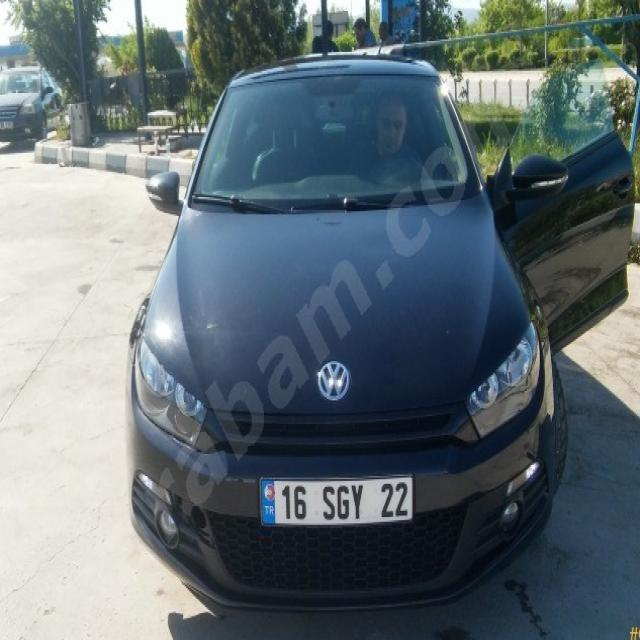license_plate: (259, 475, 413, 526)
